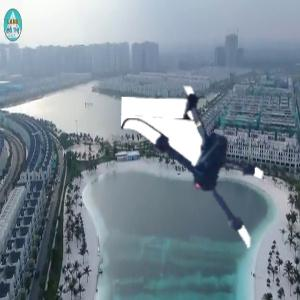drone: (121, 86, 291, 256)
